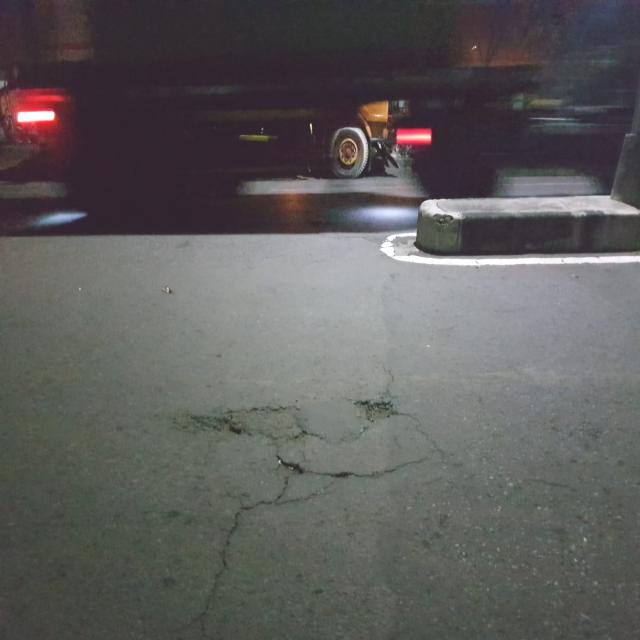Buraco: (167, 403, 311, 443), (350, 398, 398, 424), (271, 454, 307, 483)
